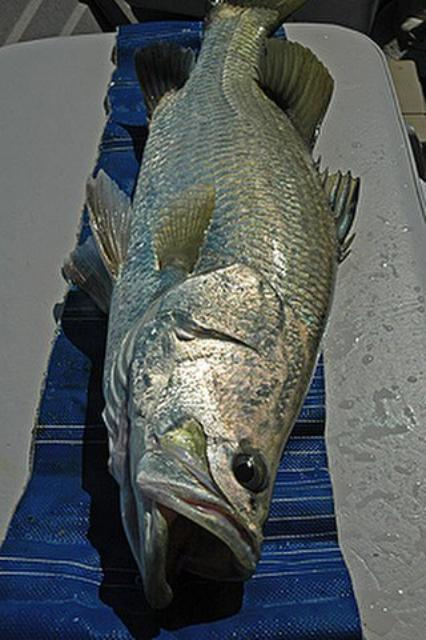Mulut: (95, 464, 283, 638)
Sirip Anal: (114, 26, 214, 140)
Sirip Dada: (138, 166, 232, 306)
Sirip Perut: (52, 157, 150, 327)
Sirip Punggung: (256, 20, 372, 272)
